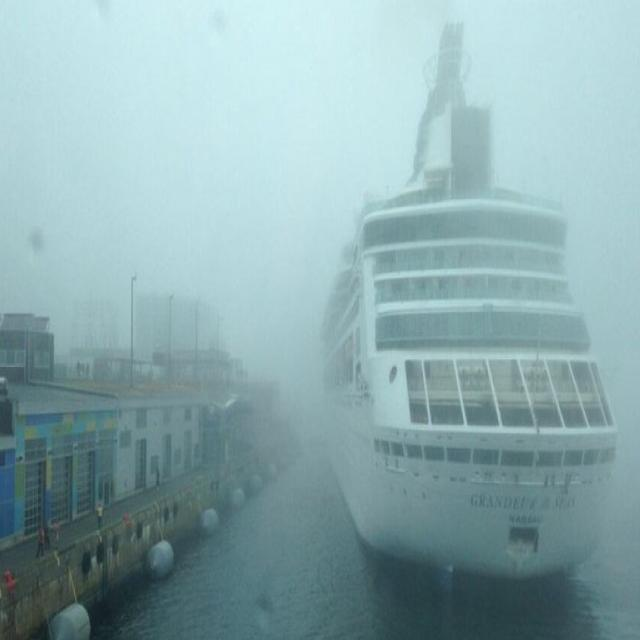passenger ship: (312, 17, 616, 577)
